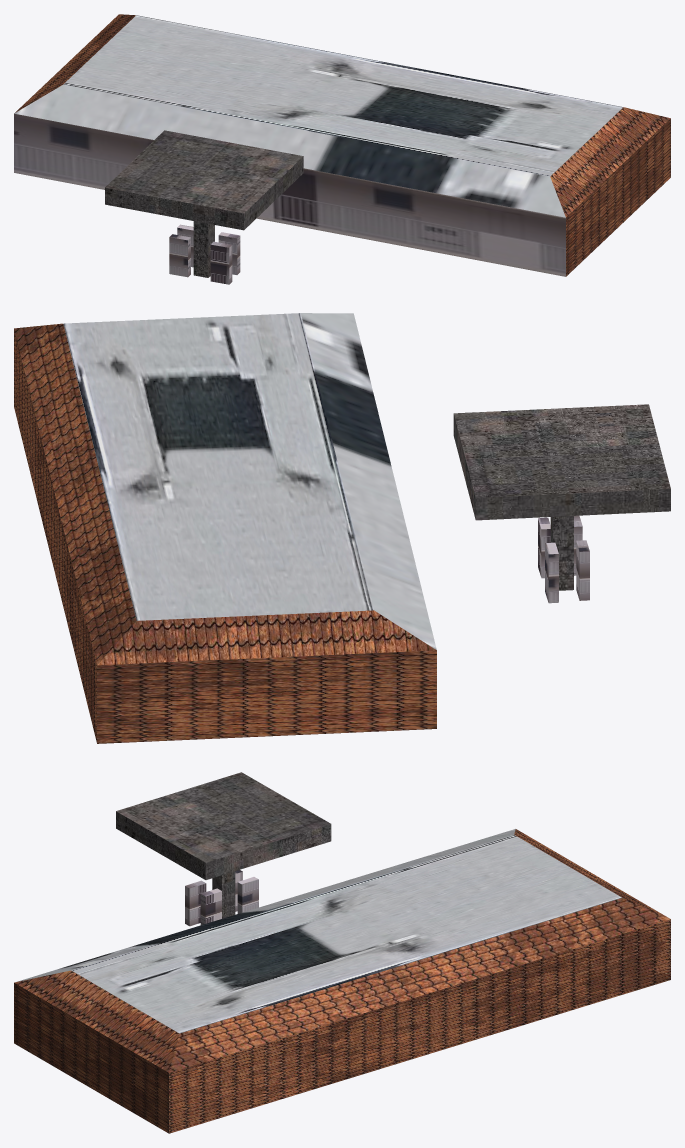
File: gas_station_0.obj
3 renders of one model, top to bottom at view 1: azimuth 30°, elevation 25°; view 2: azimuth 150°, elevation 25°; view 3: azimuth 270°, elevation 25°, orthographic. The views are drawn at different scales.
Parts seen in each view (by area): view 1: gas_station_0; view 2: gas_station_0; view 3: gas_station_0.
Boxes of the visible parts, bbox=[...] form: gas_station_0: bbox=[14, 14, 670, 284]; gas_station_0: bbox=[14, 313, 670, 743]; gas_station_0: bbox=[14, 772, 670, 1133].
Size of the model in its own units: 38.11 by 6.98 by 39.84.
